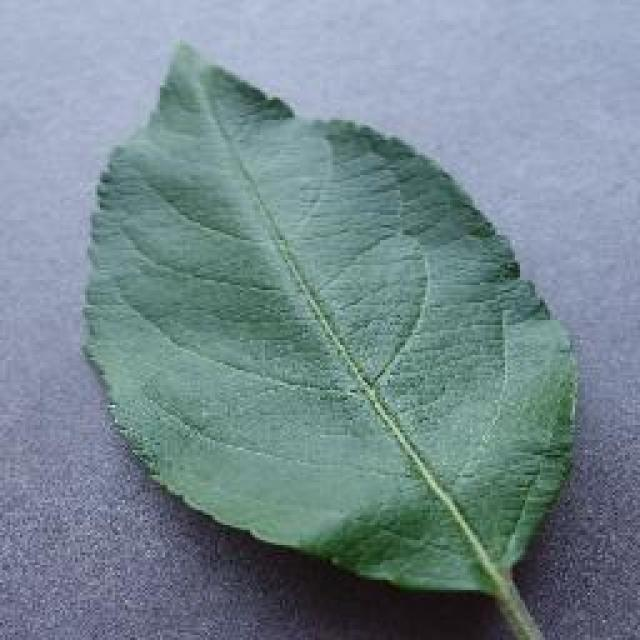apple healthy: (78, 35, 582, 635)
